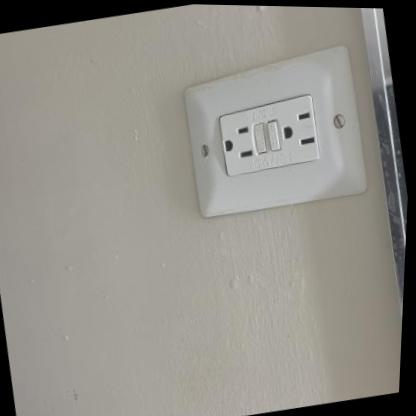OUTLET: (173, 51, 374, 223)
